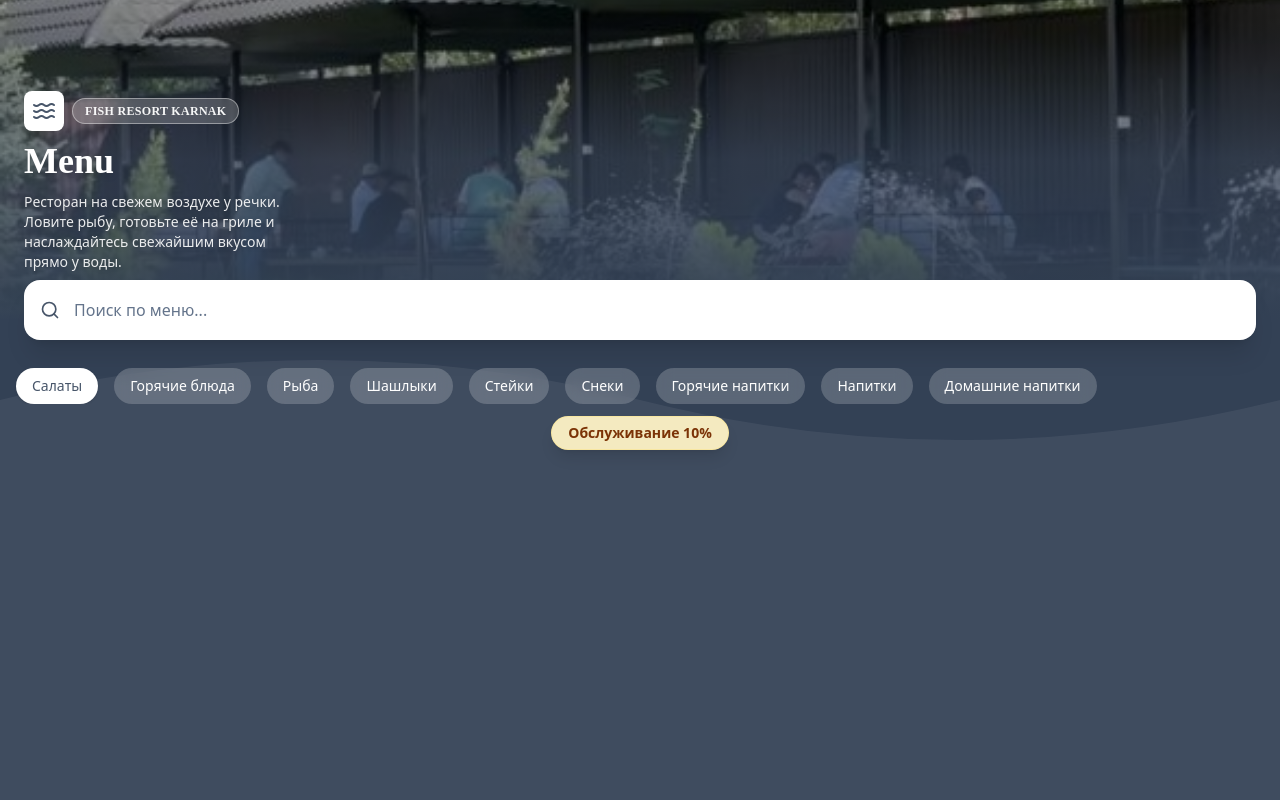
App › shows nothing found when search has no matches
Type "xyznonexistent" into the field with placeholder "Поиск по меню...".
click(640, 310); type("xyznonexistent")  # box [24,280,1256,340]
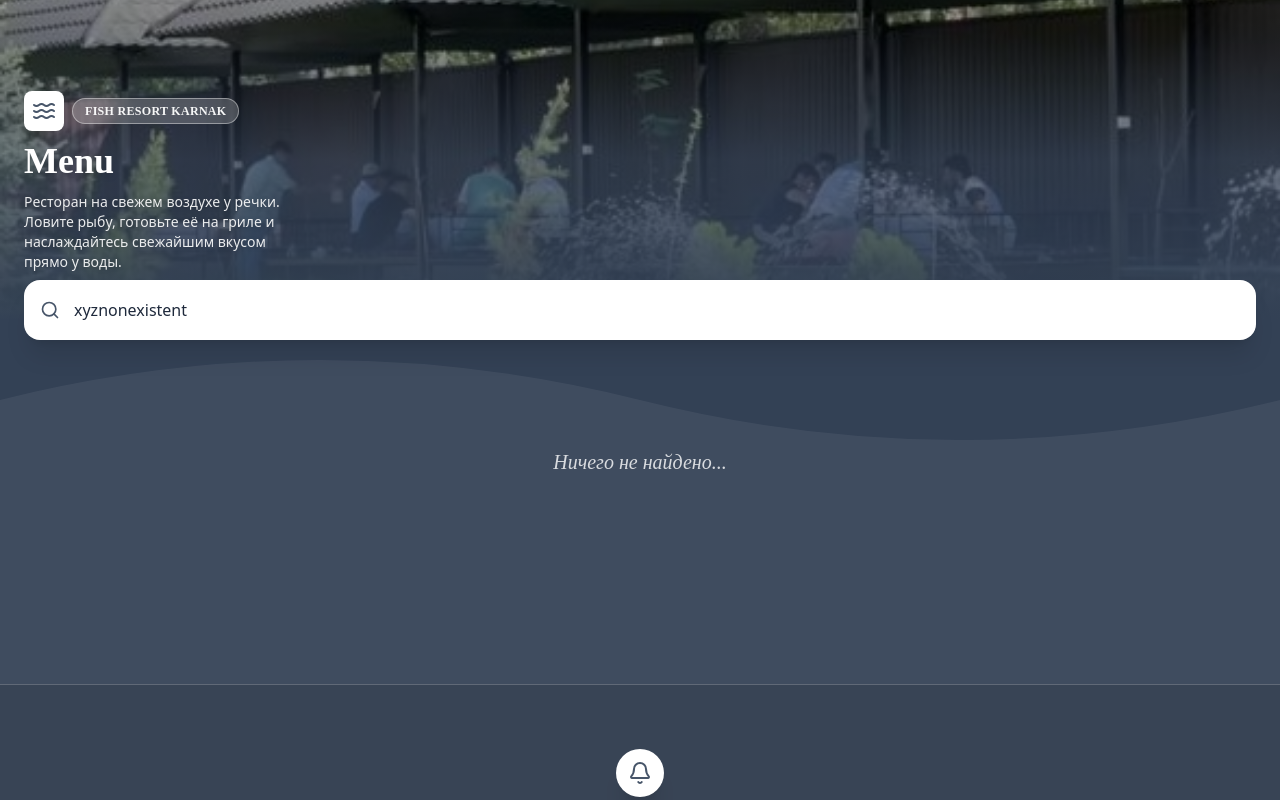
Result: the text "Ничего не найдено..." is shown at [553,451,727,473]
